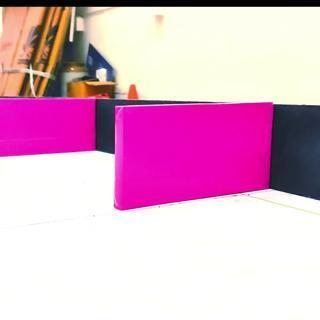xparking: (114, 105, 272, 194), (1, 99, 94, 150)
